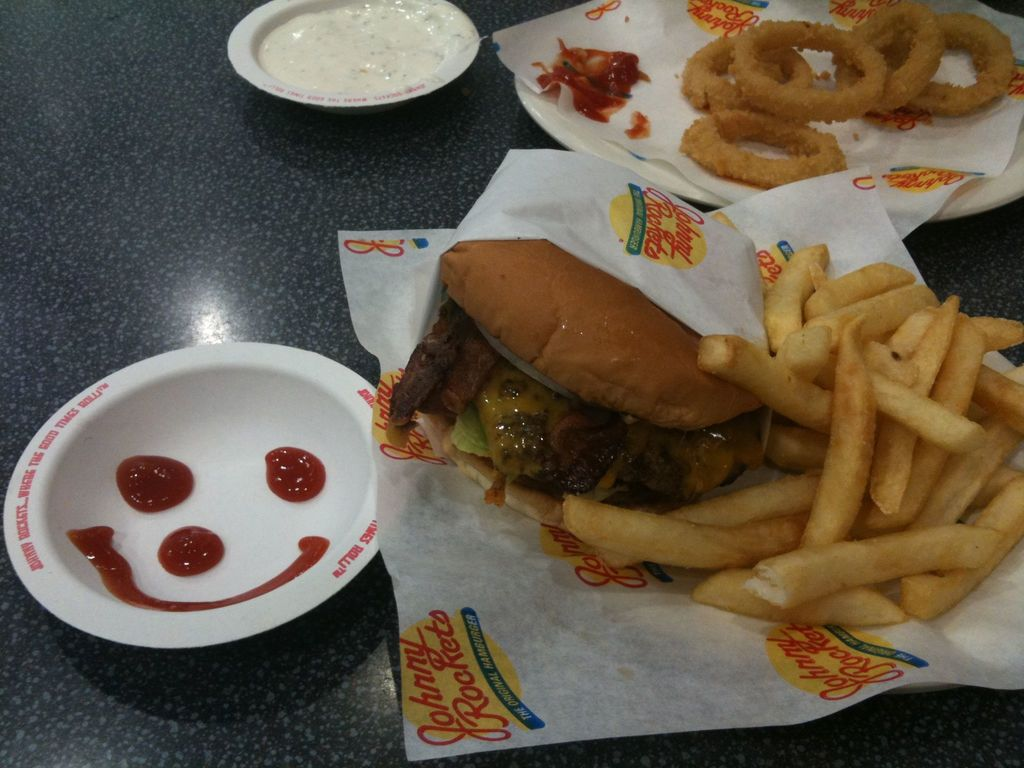French fries: (557, 241, 1023, 627)
